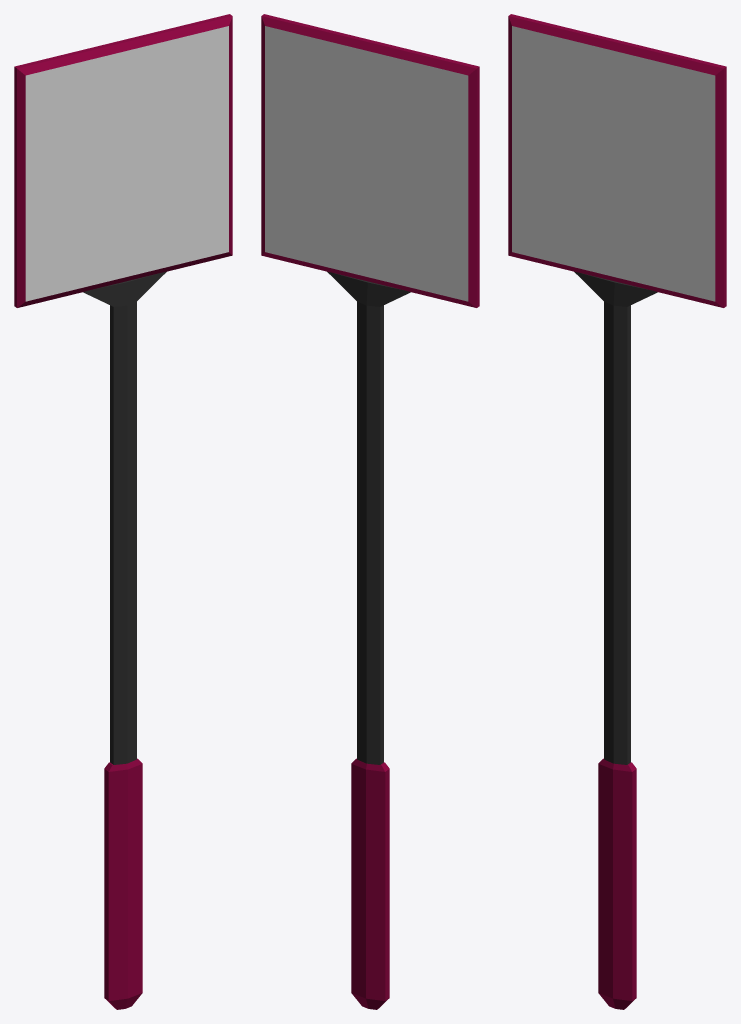
The model's file is flyswatter.fbx.
3 views of the same model, side by side, from view 1: azimuth 30°, elevation 25°; view 2: azimuth 150°, elevation 25°; view 3: azimuth 330°, elevation 25° (orthographic).
Parts seen in each view (by area): view 1: Head, Handle long, Handle grabbable; view 2: Head, Handle long, Handle grabbable; view 3: Head, Handle long, Handle grabbable.
Part boxes in pixels (x1=…): Head: x1=14, y1=14, x2=232, y2=307; Handle long: x1=83, y1=271, x2=166, y2=764; Handle grabbable: x1=104, y1=758, x2=142, y2=1009; Head: x1=261, y1=14, x2=479, y2=307; Handle long: x1=327, y1=271, x2=410, y2=764; Handle grabbable: x1=351, y1=758, x2=389, y2=1009; Head: x1=508, y1=14, x2=726, y2=307; Handle long: x1=574, y1=271, x2=657, y2=764; Handle grabbable: x1=598, y1=758, x2=636, y2=1009.
Size of the model in its own units: 16 by 68.55 by 1.16.
